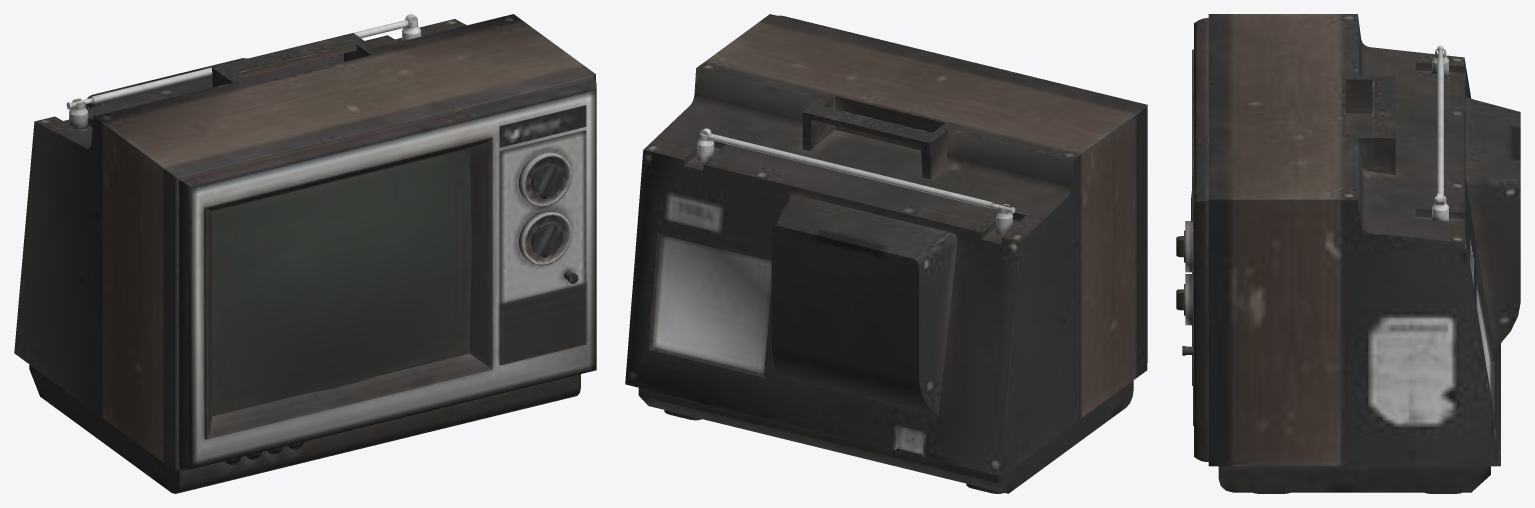
The model's file is Television_01.glb.
The picture shows the model from 3 angles, left to right: view 1: azimuth 30°, elevation 25°; view 2: azimuth 150°, elevation 25°; view 3: azimuth 270°, elevation 25°; orthographic projection. The views are drawn at different scales.
Parts seen in each view (by area): view 1: c04_plastic, c03_glass, c01_plastic, c06_plastic, c05_plastic, c07_plastic; view 2: c07_plastic, c01_plastic, c04_plastic, c05_plastic, c02_glass, c00_plastic, c06_plastic; view 3: c04_plastic, c01_plastic, c05_plastic, c07_plastic, c00_plastic.
Boxes of the visible parts, x1=… form: c04_plastic: x1=14, y1=78, x2=596, y2=470; c03_glass: x1=205, y1=138, x2=492, y2=439; c01_plastic: x1=29, y1=14, x2=595, y2=493; c06_plastic: x1=176, y1=374, x2=580, y2=493; c05_plastic: x1=34, y1=14, x2=466, y2=148; c07_plastic: x1=85, y1=58, x2=246, y2=108; c07_plastic: x1=625, y1=150, x2=1020, y2=476; c01_plastic: x1=638, y1=14, x2=1146, y2=493; c04_plastic: x1=778, y1=15, x2=1147, y2=475; c05_plastic: x1=643, y1=68, x2=1073, y2=243; c02_glass: x1=771, y1=226, x2=937, y2=415; c00_plastic: x1=649, y1=232, x2=771, y2=377; c06_plastic: x1=639, y1=395, x2=1007, y2=493; c04_plastic: x1=1176, y1=18, x2=1500, y2=466; c01_plastic: x1=1208, y1=14, x2=1490, y2=492; c05_plastic: x1=1345, y1=16, x2=1465, y2=242; c07_plastic: x1=1464, y1=59, x2=1520, y2=464; c00_plastic: x1=1476, y1=251, x2=1494, y2=417.
Bounding box in the file's own units: 0.6 × 0.4568 × 0.4708.
Materials: 1 (1 with a texture image).
